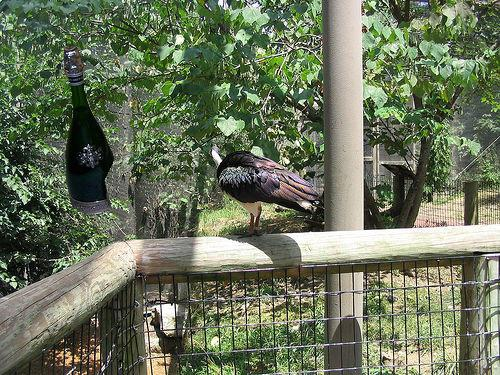tampered: (65, 47, 114, 214)
